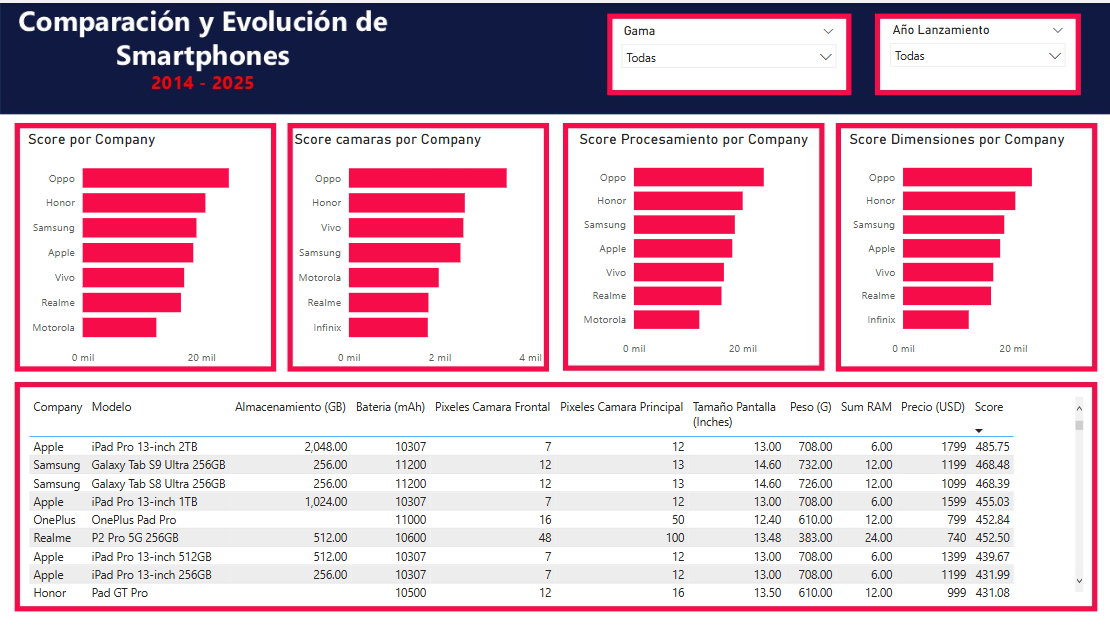

The dashboard page shown, as its layout file describes it:
{"tool":"powerbi","page":{"name":"Score","canvas":[1280,720],"ordinal":2},"visuals":[{"type":"barChart","fields":{"Y":["Medidas.Score"],"Category":["Cellphone_v2 (2).Company"]},"box":[27.3,146.7,294.9,279.1],"z":0},{"type":"tableEx","fields":{"Values":["Cellphone_v2 (2).Company","Cellphone_v2 (2).Modelo","Medidas.Sum AlmacenamienTO","Medidas.Sum Bateria","Medidas.Sum Camara frontal","Medidas.Sum Camara Principal","Medidas.Sum Pantalla","Medidas.Sum Peso","Medidas.Sum RAM","Medidas.Sum Precio","Medidas.Score"]},"box":[27.3,448.8,1224.2,243.1],"z":1000},{"type":"barChart","fields":{"Category":["Cellphone_v2 (2).Company"],"Y":["Medidas.Score camaras"]},"box":[333.7,146.7,294.9,279.1],"z":2000},{"type":"barChart","fields":{"Y":["Medidas.Score Procesamiento"],"Category":["Cellphone_v2 (2).Company"]},"box":[661.7,146.7,277.6,269],"z":3000},{"type":"barChart","fields":{"Y":["Medidas.Score Dimensiones"],"Category":["Cellphone_v2 (2).Company"]},"box":[972.4,146.7,279.1,269],"z":4000},{"type":"slicer","fields":{"Values":["Cellphone_v2 (2).Año Lanzamiento"]},"box":[1014.1,17.8,222.3,85.1],"z":5000},{"type":"slicer","fields":{"Values":["Cellphone_v2 (2).Gama"]},"box":[704.9,18.7,267.6,84.9],"z":6000}]}

Visuals, with their boxes in screenshot pixels (x1, y1, x2, y2), scaled from the page's 1280x720 canvas onto the 1110x625 screenshot:
barChart - Medidas.Score x Cellphone_v2 (2).Company: {"x1": 24, "y1": 127, "x2": 279, "y2": 370}
tableEx - Cellphone_v2 (2).Company x Cellphone_v2 (2).Modelo: {"x1": 24, "y1": 390, "x2": 1085, "y2": 601}
barChart - Cellphone_v2 (2).Company x Medidas.Score camaras: {"x1": 289, "y1": 127, "x2": 545, "y2": 370}
barChart - Medidas.Score Procesamiento x Cellphone_v2 (2).Company: {"x1": 574, "y1": 127, "x2": 815, "y2": 361}
barChart - Medidas.Score Dimensiones x Cellphone_v2 (2).Company: {"x1": 843, "y1": 127, "x2": 1085, "y2": 361}
slicer - Cellphone_v2 (2).Año Lanzamiento: {"x1": 879, "y1": 15, "x2": 1072, "y2": 89}
slicer - Cellphone_v2 (2).Gama: {"x1": 611, "y1": 16, "x2": 843, "y2": 90}
